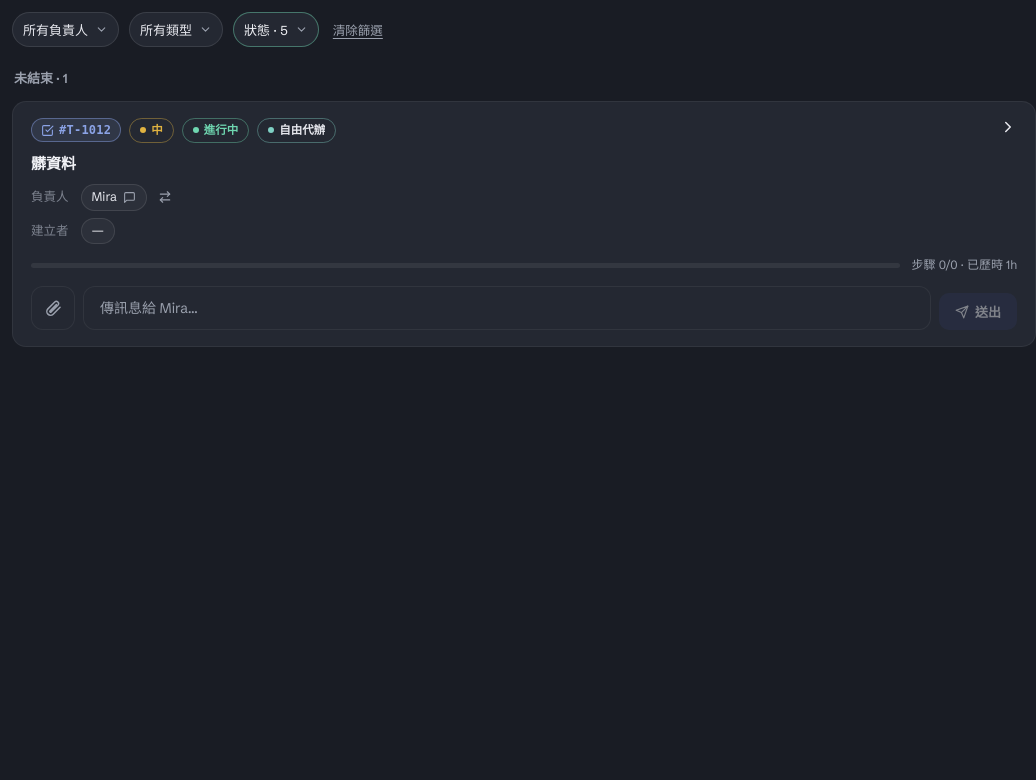
TasksPage › renders legacy dirty parallel data defensively: gate-in-group keeps its badge, a split group folds into two separate stages
The width and height of the screenshot is (1036, 780).
Click the button with test id "task-card" at [524, 332], box left=12, top=100, right=1035, bottom=347
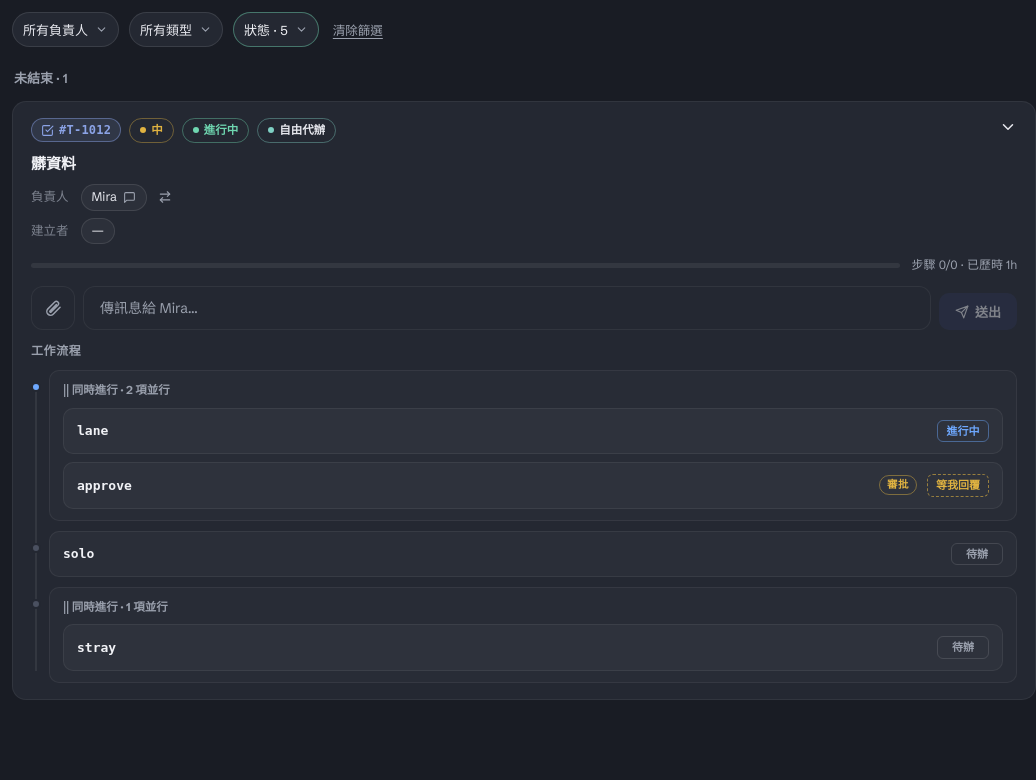
Check: the element with test id "task-parallel" shows "同時進行 · 2 項並行", box left=72, top=383, right=170, bottom=397
Check: the element with test id "task-parallel" shows "同時進行 · 1 項並行", box left=72, top=600, right=168, bottom=614
Check: the text with test id "gate-announced" reads "等我回覆", box left=936, top=478, right=980, bottom=492
